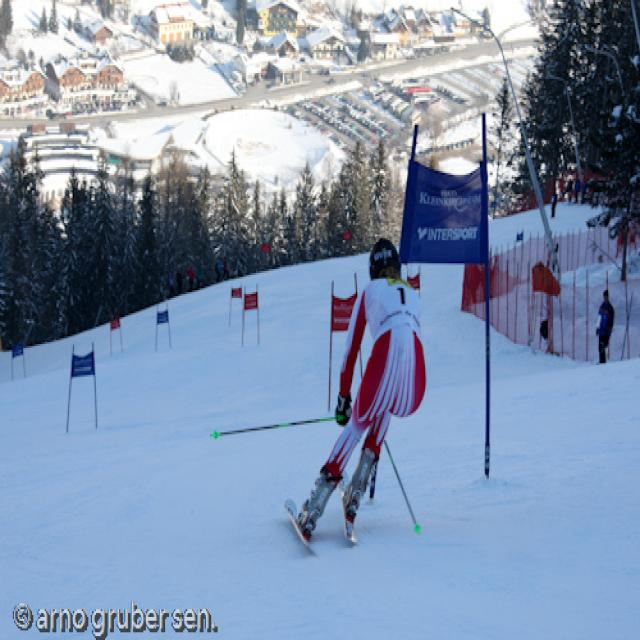Vehicle: (395, 100, 409, 118), (382, 95, 394, 108), (306, 100, 318, 112), (329, 115, 342, 125), (342, 147, 351, 155), (385, 126, 390, 134), (369, 138, 373, 143)
